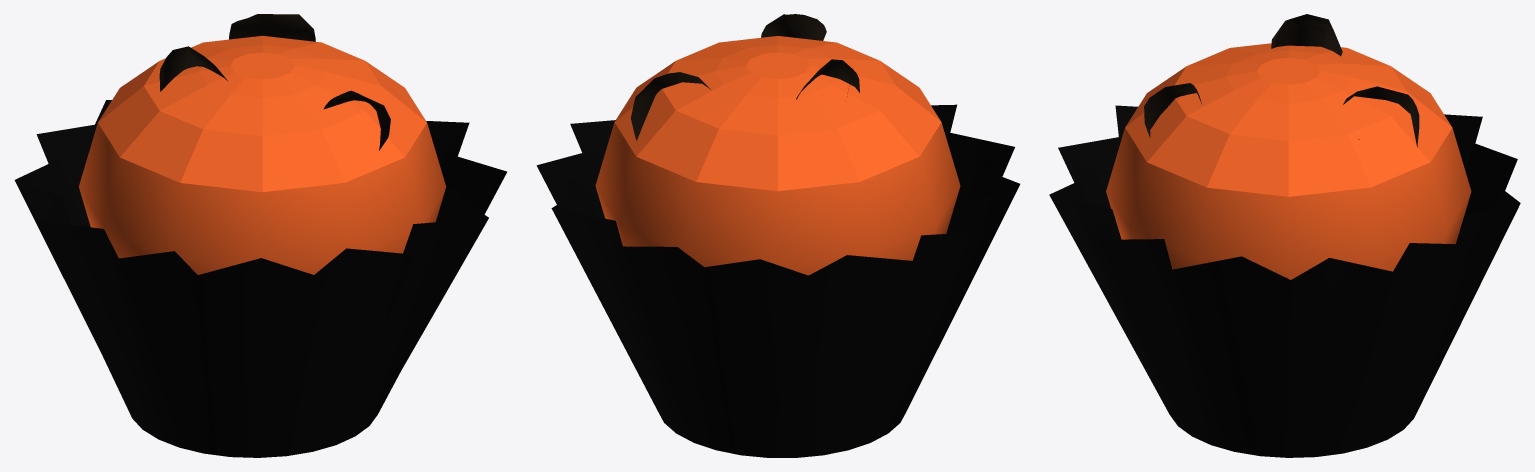
File: Muffin_5.fbx
3 views of the same model, side by side, from view 1: azimuth 30°, elevation 25°; view 2: azimuth 150°, elevation 25°; view 3: azimuth 270°, elevation 25° (orthographic).
Visible parts, largest first — view 1: Cylinder028; view 2: Cylinder028; view 3: Cylinder028.
Part boxes in pixels (x1,y1,x2,y2): Cylinder028: [14, 14, 506, 457]; Cylinder028: [536, 14, 1020, 457]; Cylinder028: [1049, 14, 1520, 457].
Bounding box in the file's own units: 18.46 × 15.12 × 17.88.
